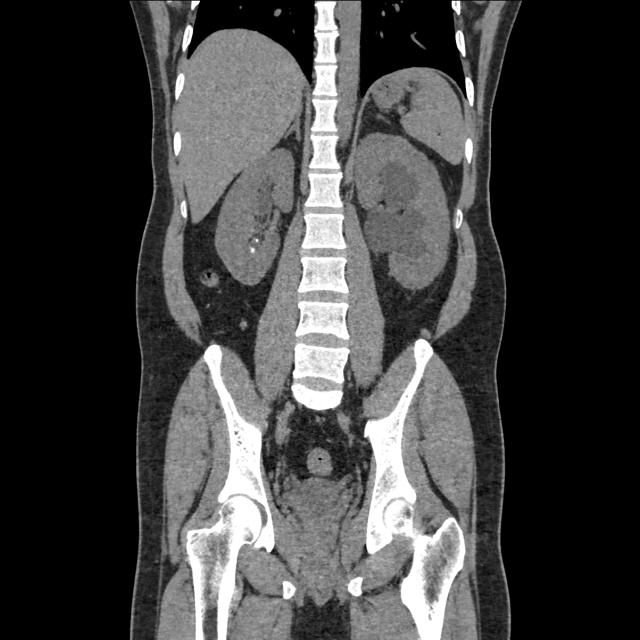kidneystone: (250, 245, 256, 254), (252, 238, 258, 242)
